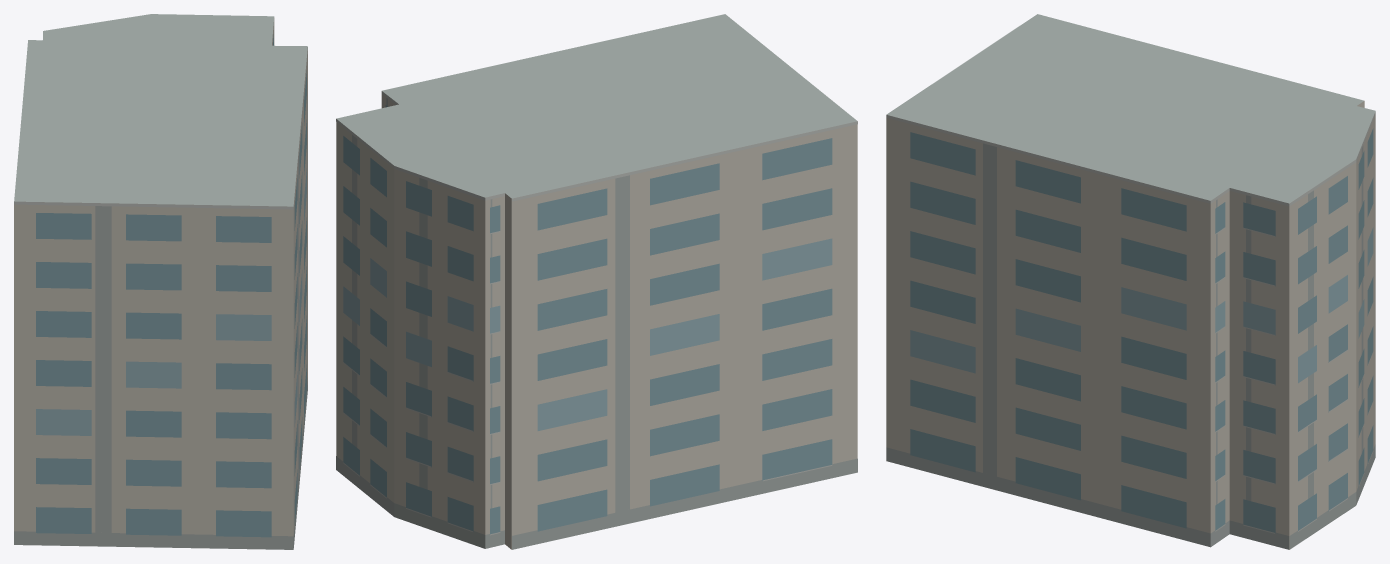
Rendered from survey-upis-32705296.glb.
3 renders of one model, left to right at view 1: azimuth 30°, elevation 25°; view 2: azimuth 150°, elevation 25°; view 3: azimuth 270°, elevation 25°, orthographic. The views are drawn at different scales.
Parts seen in each view (by area): view 1: survey-upis-32705296.tmp; view 2: survey-upis-32705296.tmp; view 3: survey-upis-32705296.tmp.
Part boxes in pixels (left/top/right/bottom): survey-upis-32705296.tmp: left=14, top=14, right=307, bottom=549; survey-upis-32705296.tmp: left=336, top=14, right=857, bottom=549; survey-upis-32705296.tmp: left=886, top=14, right=1375, bottom=549.
Bounding box in the file's own units: 32.87 × 28 × 35.87.
